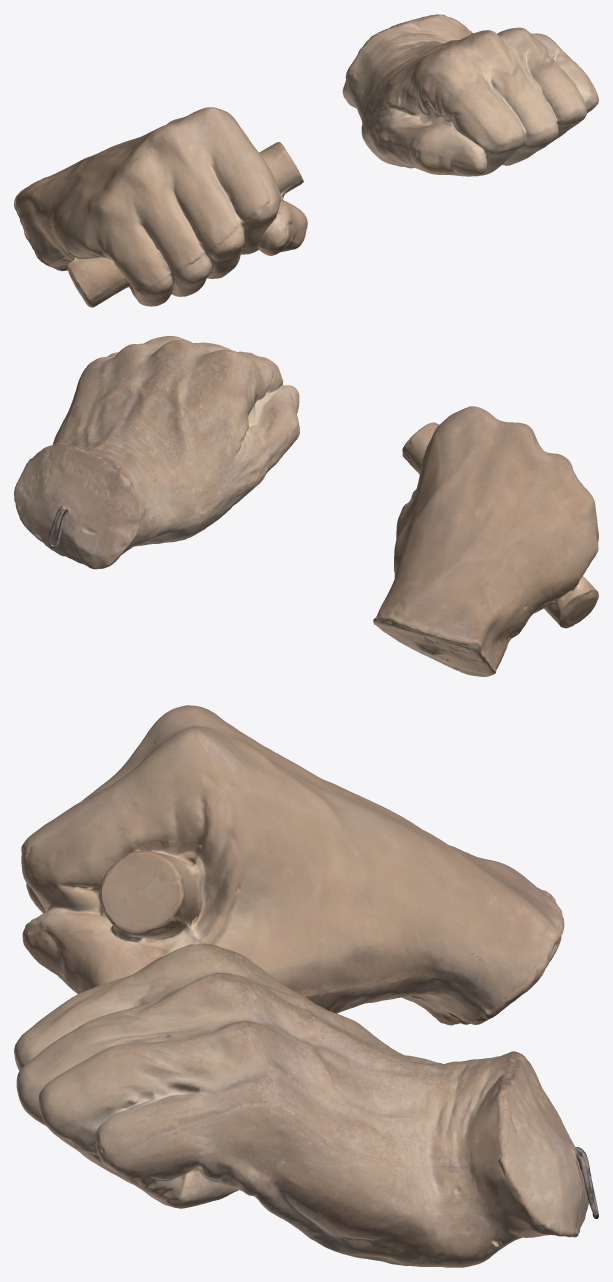
Rendered from npg_71_6_combined-hires_unwrapped-100k-2048_std_draco.glb.
3 renders of one model, top to bottom at view 1: azimuth 30°, elevation 25°; view 2: azimuth 150°, elevation 25°; view 3: azimuth 270°, elevation 25°, orthographic. The views are drawn at different scales.
Parts seen in each view (by area): view 1: Mesh_0.001; view 2: Mesh_0.001; view 3: Mesh_0.001.
Boxes of the visible parts, <box> form: Mesh_0.001: <box>14,14,598,307</box>; Mesh_0.001: <box>14,336,598,676</box>; Mesh_0.001: <box>14,705,598,1267</box>.
Bounding box in the file's own units: 0.3035 × 0.1135 × 0.1735.
Materials: 2 (2 with a texture image).
